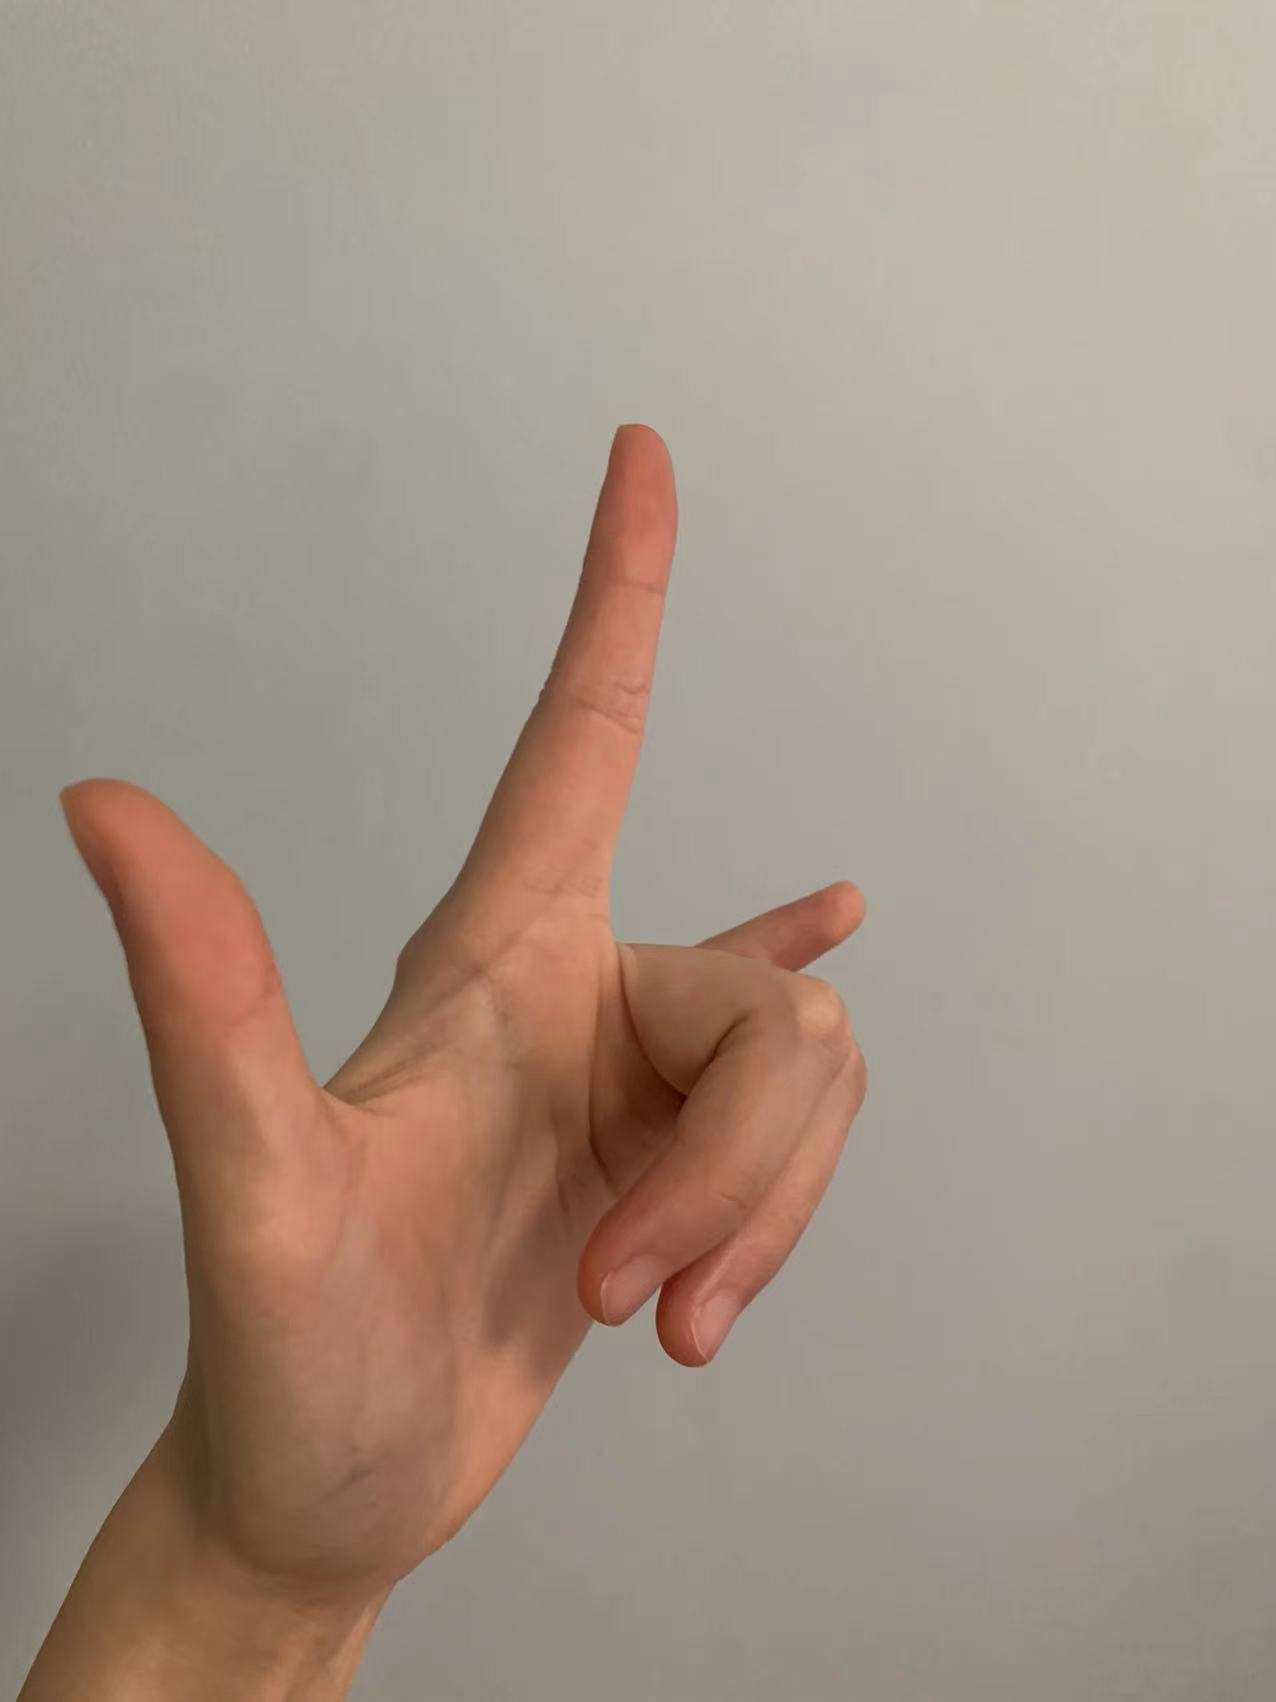back: (64, 411, 913, 1522)
